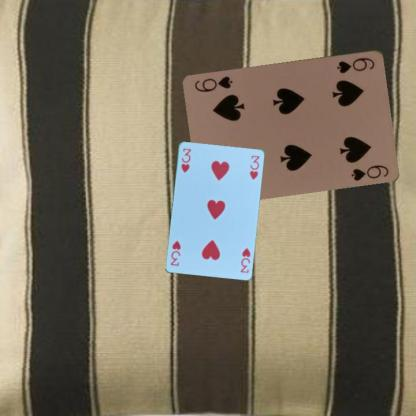3h: (237, 245, 252, 274), (178, 146, 192, 173)
6s: (334, 54, 376, 74)
